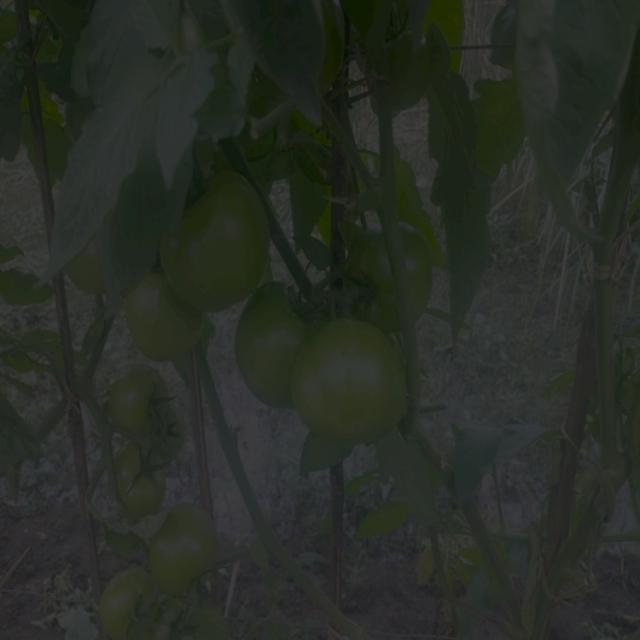tomato: (295, 312, 416, 441), (165, 167, 270, 304), (238, 271, 306, 407), (105, 365, 183, 445), (126, 285, 211, 357), (98, 566, 172, 640), (160, 499, 218, 592), (348, 230, 394, 316), (119, 444, 167, 519), (397, 232, 436, 323), (67, 236, 113, 294), (150, 401, 190, 457)
